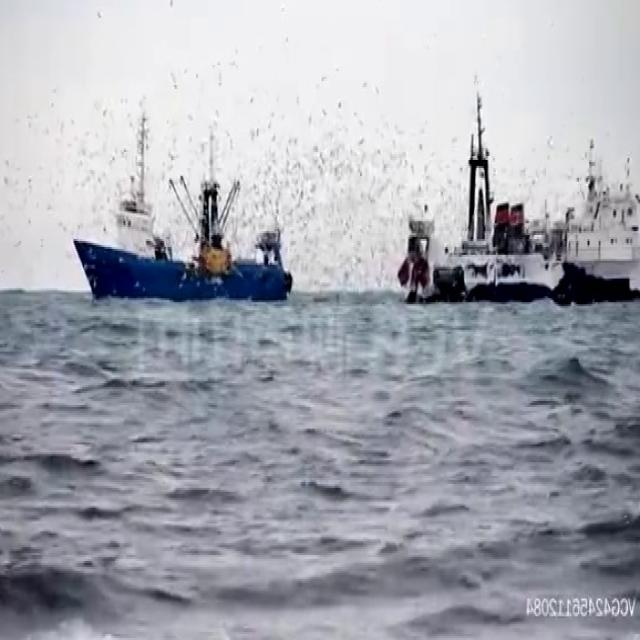houseboat: (76, 122, 299, 306), (396, 90, 591, 298), (535, 133, 640, 284)
